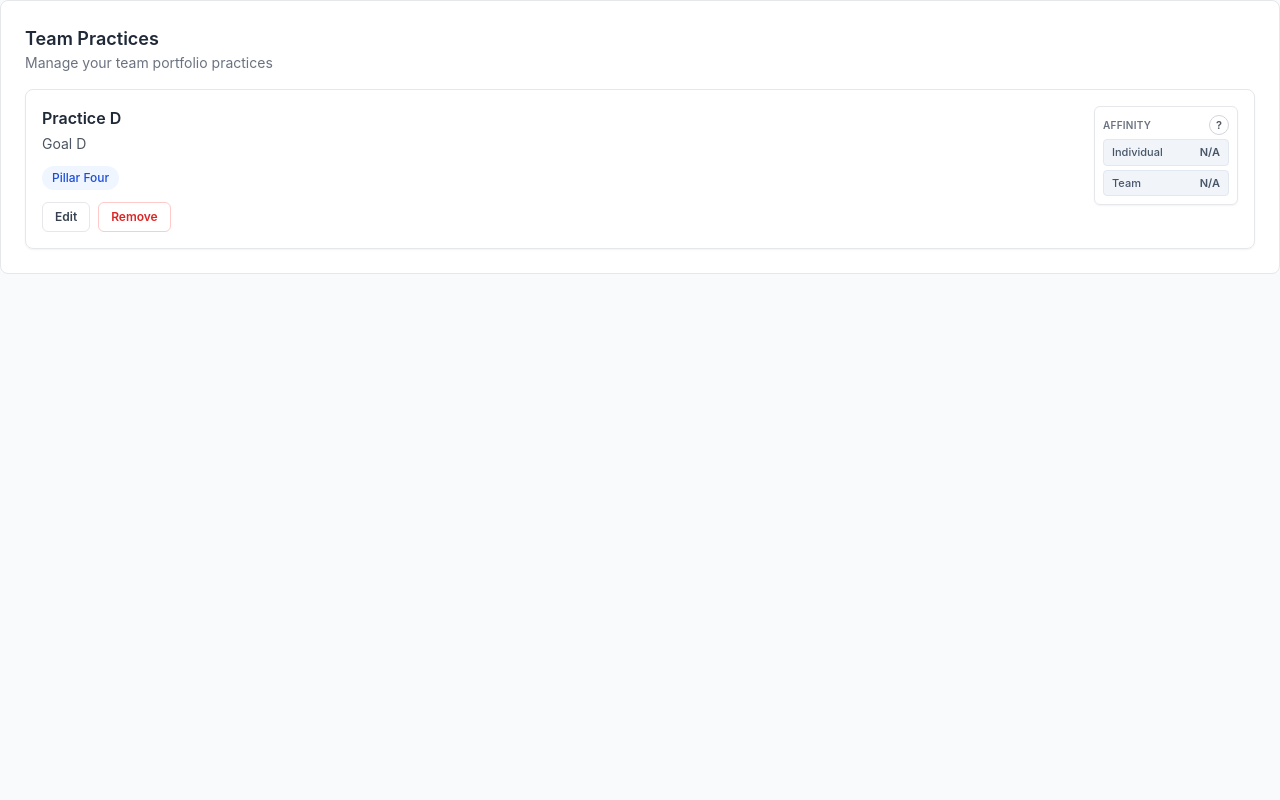
TeamPracticesPanel › shows error and keeps item on failure
This screenshot has width=1280, height=800.
Expected: the heading "Practice D" is shown, 42,108 -> 121,128
Click the button "Remove" at (134, 217), box 98,202 -> 171,232
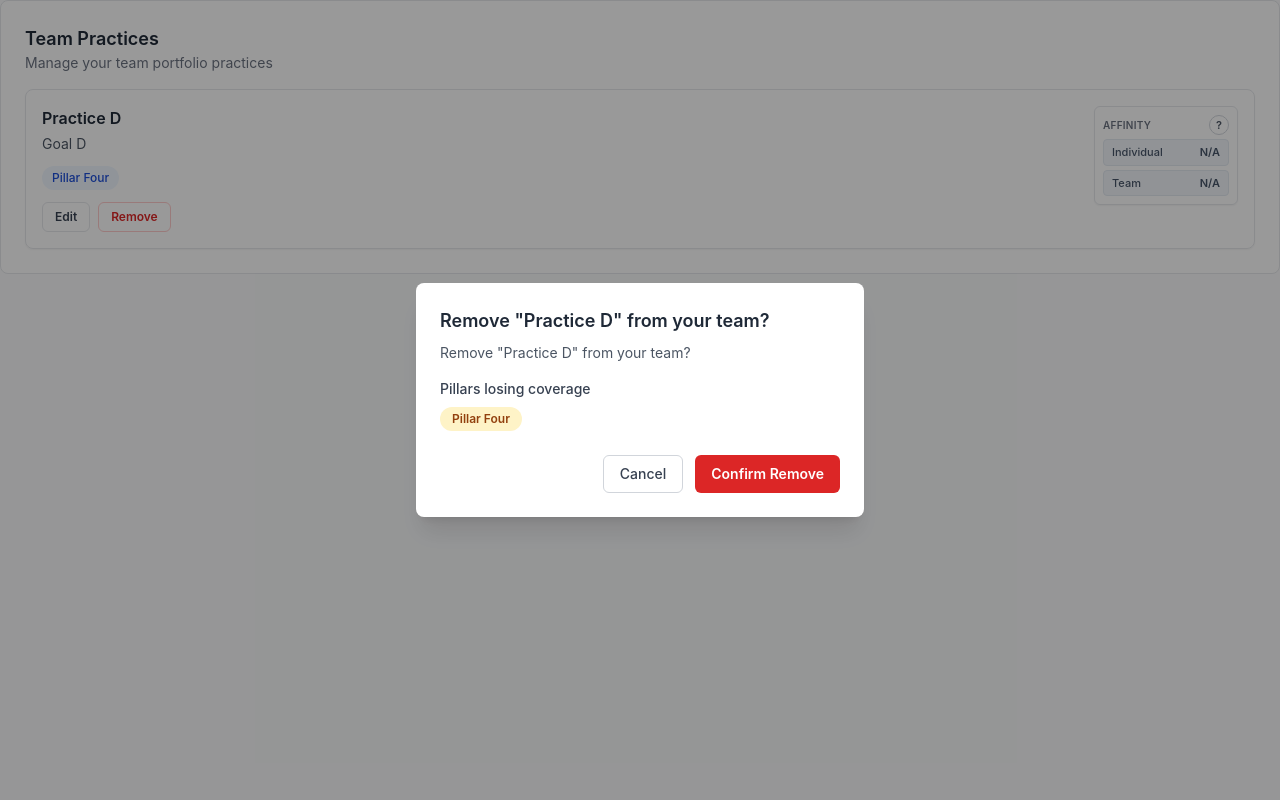
Click the button "Confirm Remove" at (768, 474), box 695,455 -> 840,493
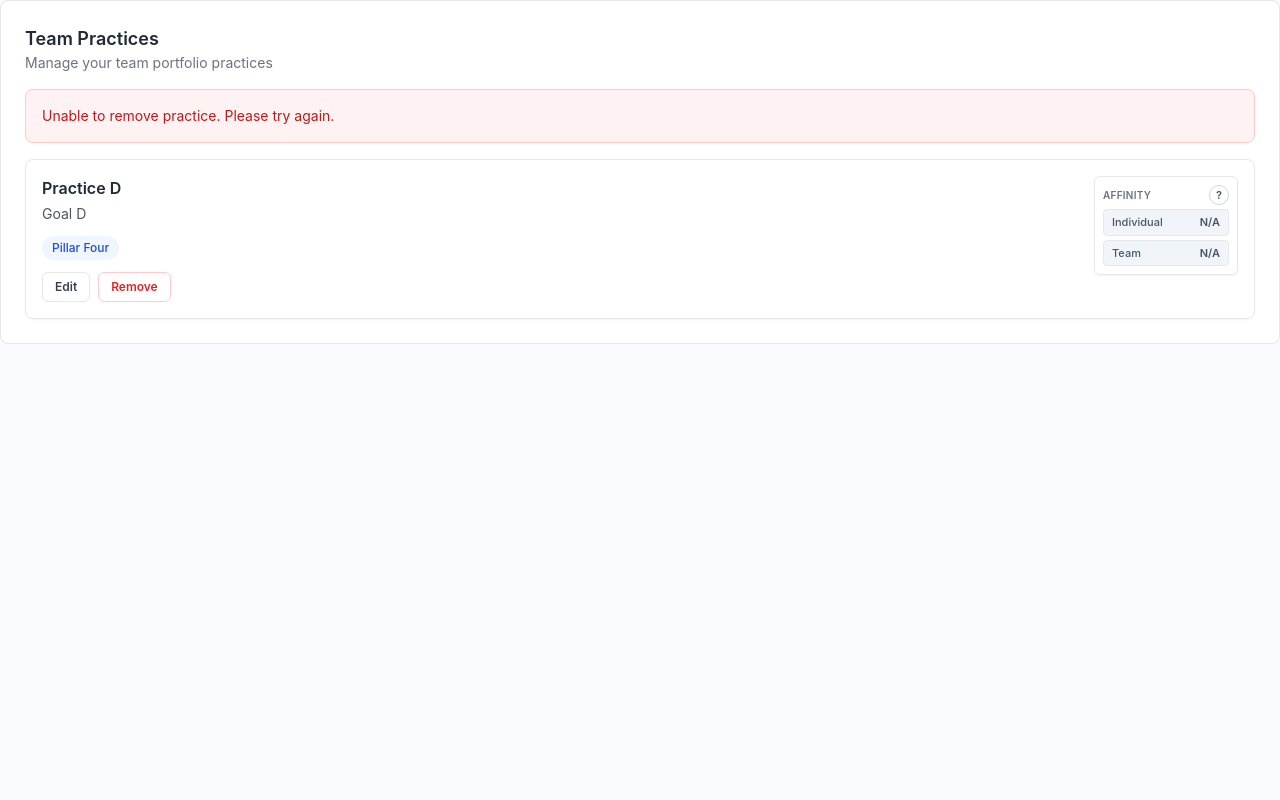
Expected: the heading "Practice D" is shown, 42,178 -> 121,198
Result: the text "Unable to remove practice. Please try again." is shown at 25,89 -> 1255,143
